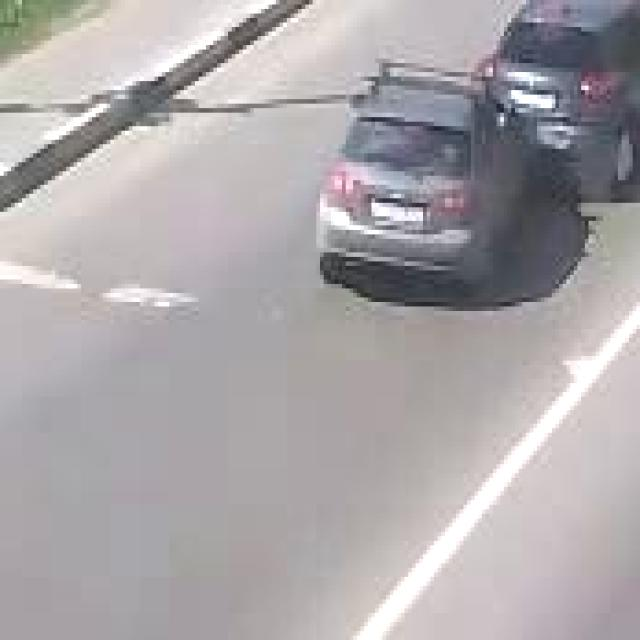accident: (316, 0, 640, 308)
